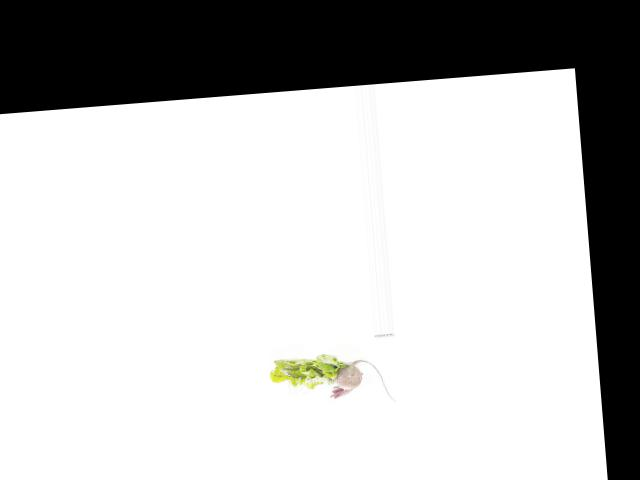beet: (326, 356, 397, 406)
